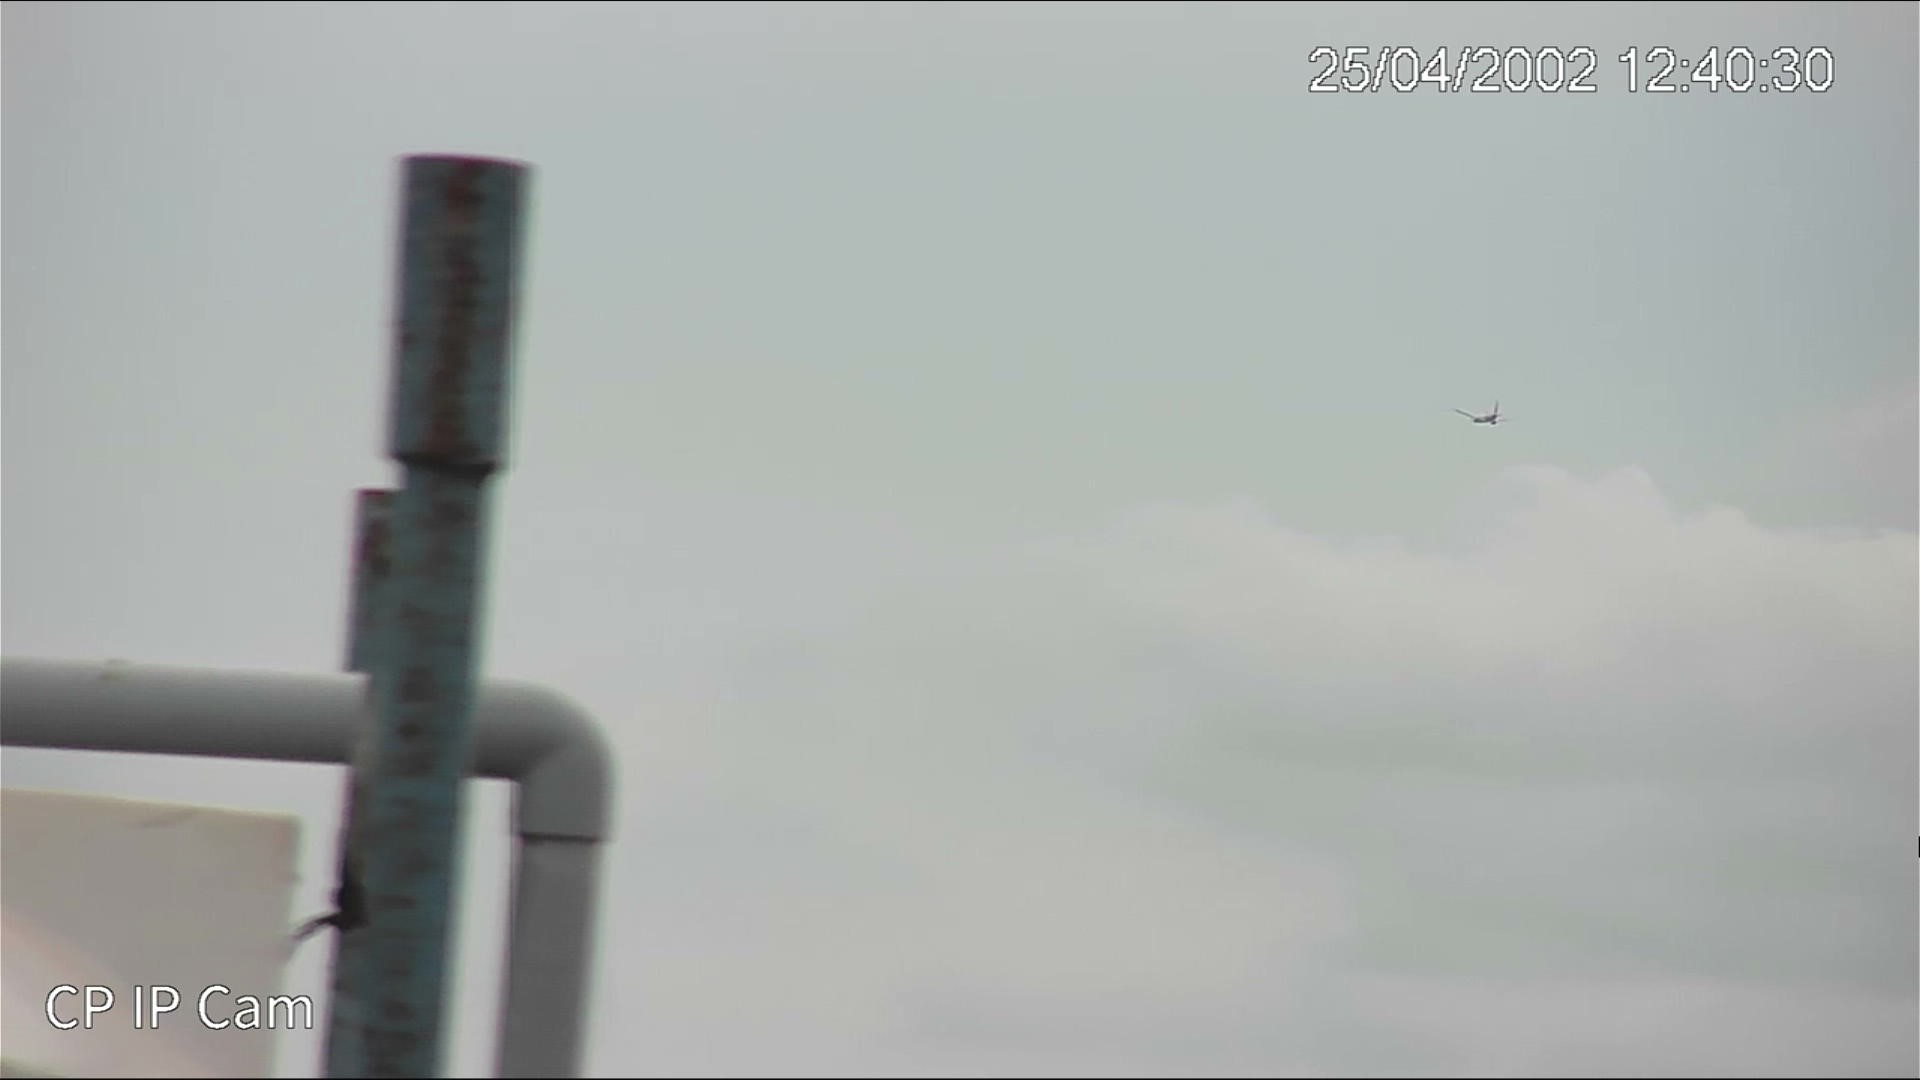SU_30: (1452, 401, 1509, 429)
